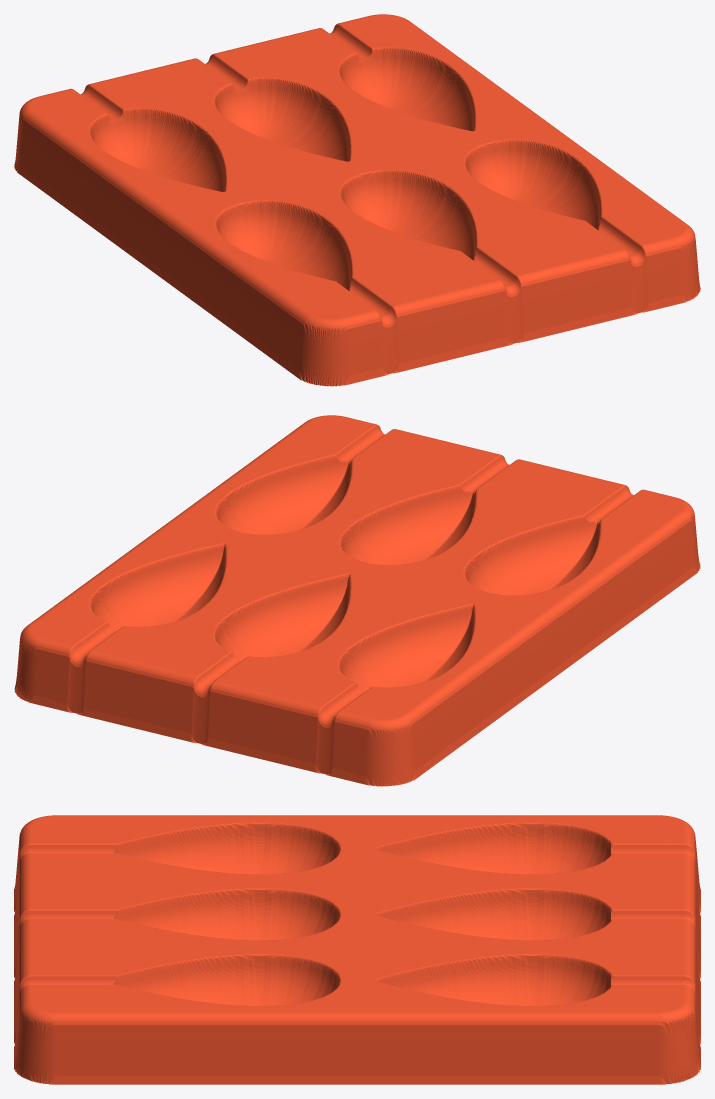
Rendered from mold.glb.
3 renders of one model, top to bottom at view 1: azimuth 30°, elevation 25°; view 2: azimuth 150°, elevation 25°; view 3: azimuth 270°, elevation 25°, orthographic. The views are drawn at different scales.
Visible parts, largest first — view 1: geometry_0; view 2: geometry_0; view 3: geometry_0.
Part boxes in pixels (box(x1,y1,x2,y2)): geometry_0: box(14, 14, 700, 386); geometry_0: box(14, 415, 700, 786); geometry_0: box(14, 815, 700, 1084).
Size of the model in its own units: 0.1069 by 0.0155 by 0.1477.
